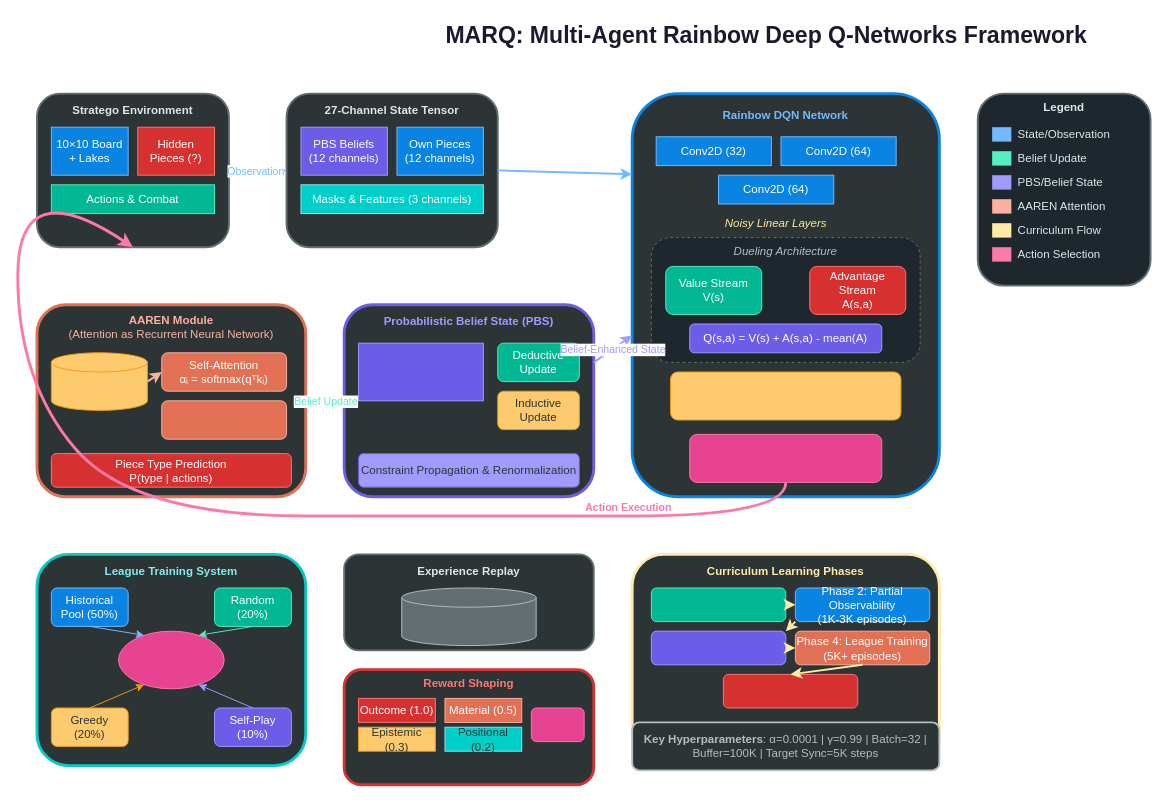
This 1168x803 diagram has some shape labels left out. Each missing label, with the box of its shape:
Action Selection a* = argmax Q(s,a): (689, 433, 882, 482)
Belief Matrix P(piece_type | position): (358, 342, 483, 401)
Categorical DQN (C51) 51 Atoms: [Vₘᵢₙ, Vₘₐₓ] = [-10, 10]: (670, 371, 901, 420)
Main Agent (Current Policy): (118, 630, 224, 689)
Observation History O = {o₁, ..., oₜ}: (50, 352, 147, 410)
Phase 1: Full Observability (500-2K episodes): (650, 587, 786, 622)
Phase 3: Self-Play (2K-5K episodes): (650, 630, 786, 665)
Phase 5: Scenario Drills (Periodic): (722, 673, 858, 708)
Standard Replay Buffer 100K Transitions (Bₜ, aₜ, rₜ, Bₜ₊₁): (401, 587, 536, 646)
Weighted Aggregation hₜ = Σ αᵢ · vᵢ: (161, 400, 287, 439)
Σ → R_total: (530, 707, 584, 742)
